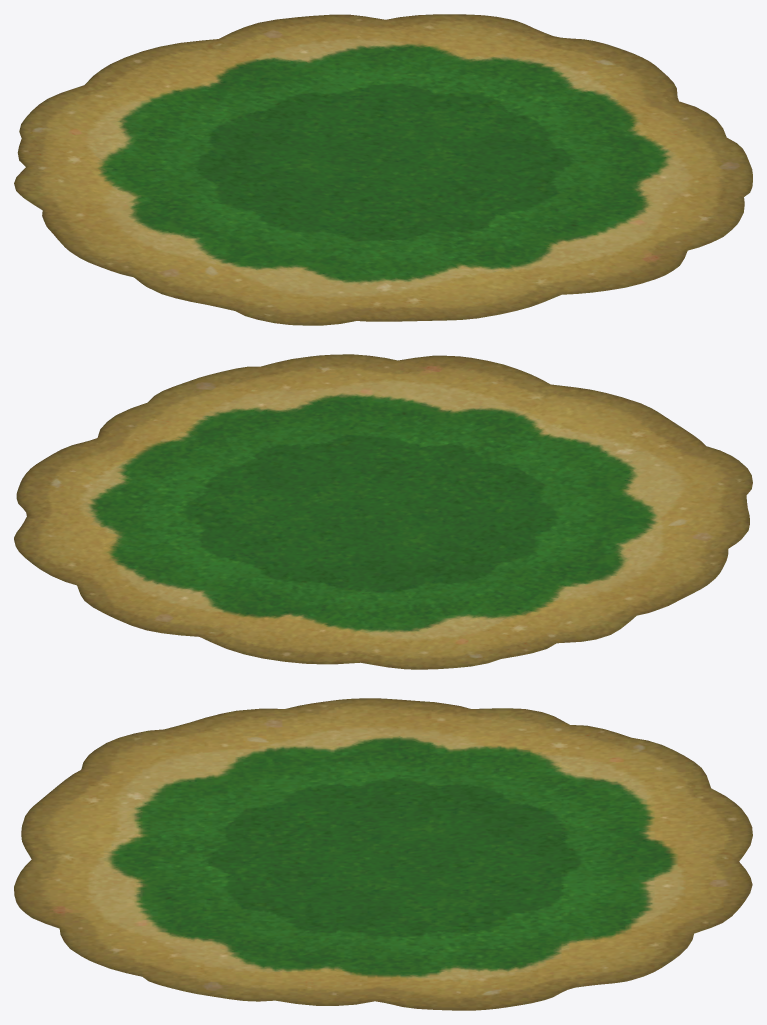
Rendered from RugRoundIslandM00.glb.
The picture shows the model from 3 angles, top to bottom: view 1: azimuth 30°, elevation 25°; view 2: azimuth 150°, elevation 25°; view 3: azimuth 270°, elevation 25°; orthographic projection. The views are drawn at different scales.
Visible parts, largest first — view 1: Main__mMain; view 2: Main__mMain; view 3: Main__mMain.
Part boxes in pixels (x1=…): Main__mMain: x1=14, y1=14, x2=752, y2=325; Main__mMain: x1=14, y1=354, x2=752, y2=669; Main__mMain: x1=14, y1=698, x2=752, y2=1010.
Bounding box in the file's own units: 29.73 × 0.03 × 29.7.
1 material, 1 textured.
